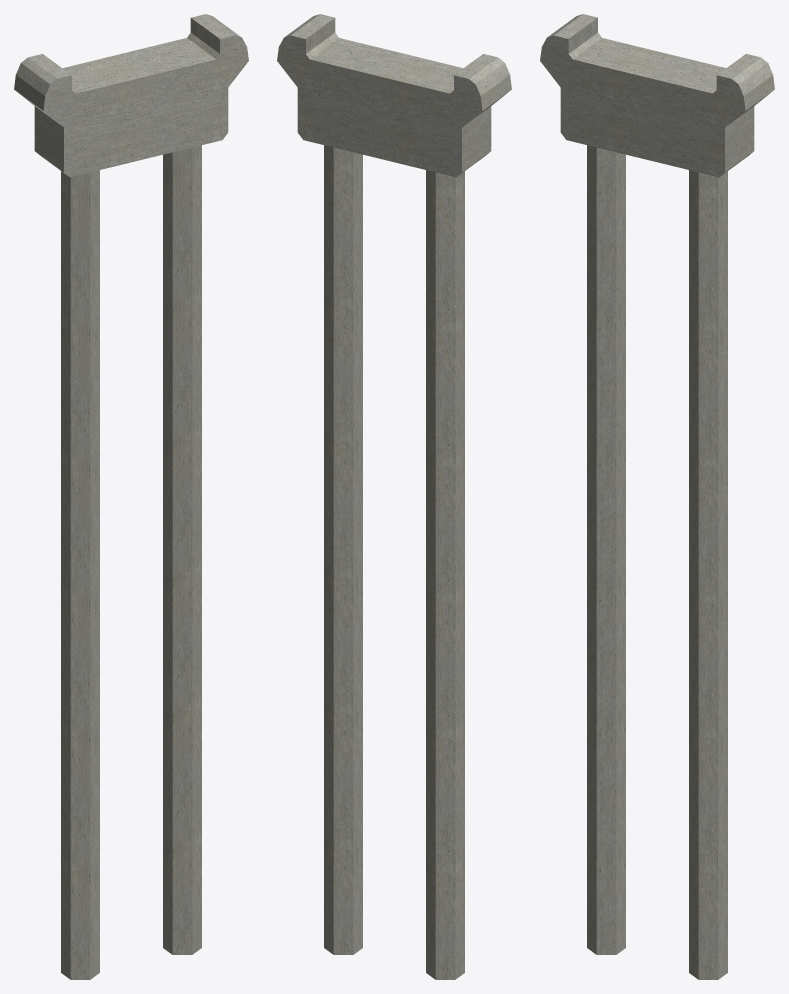
File: thm_corl_imprv_bridge_insert_s02_l1.fbx
3 views of the same model, side by side, from view 1: azimuth 30°, elevation 25°; view 2: azimuth 150°, elevation 25°; view 3: azimuth 330°, elevation 25° (orthographic).
Parts seen in each view (by area): view 1: mesh_node; view 2: mesh_node; view 3: mesh_node.
Part boxes in pixels (x1,y1,x2,y2): mesh_node: [14, 14, 248, 979]; mesh_node: [277, 14, 511, 979]; mesh_node: [540, 14, 774, 979].
Bounding box in the file's own units: 8.07 × 34.27 × 2.
1 material, 1 textured.
